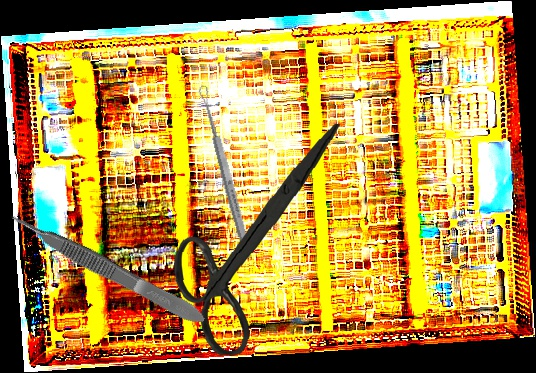Iris Scissors: (168, 118, 343, 359)
Surgical Spoon: (197, 83, 254, 260)
Tissue Forceps: (6, 205, 209, 331)
